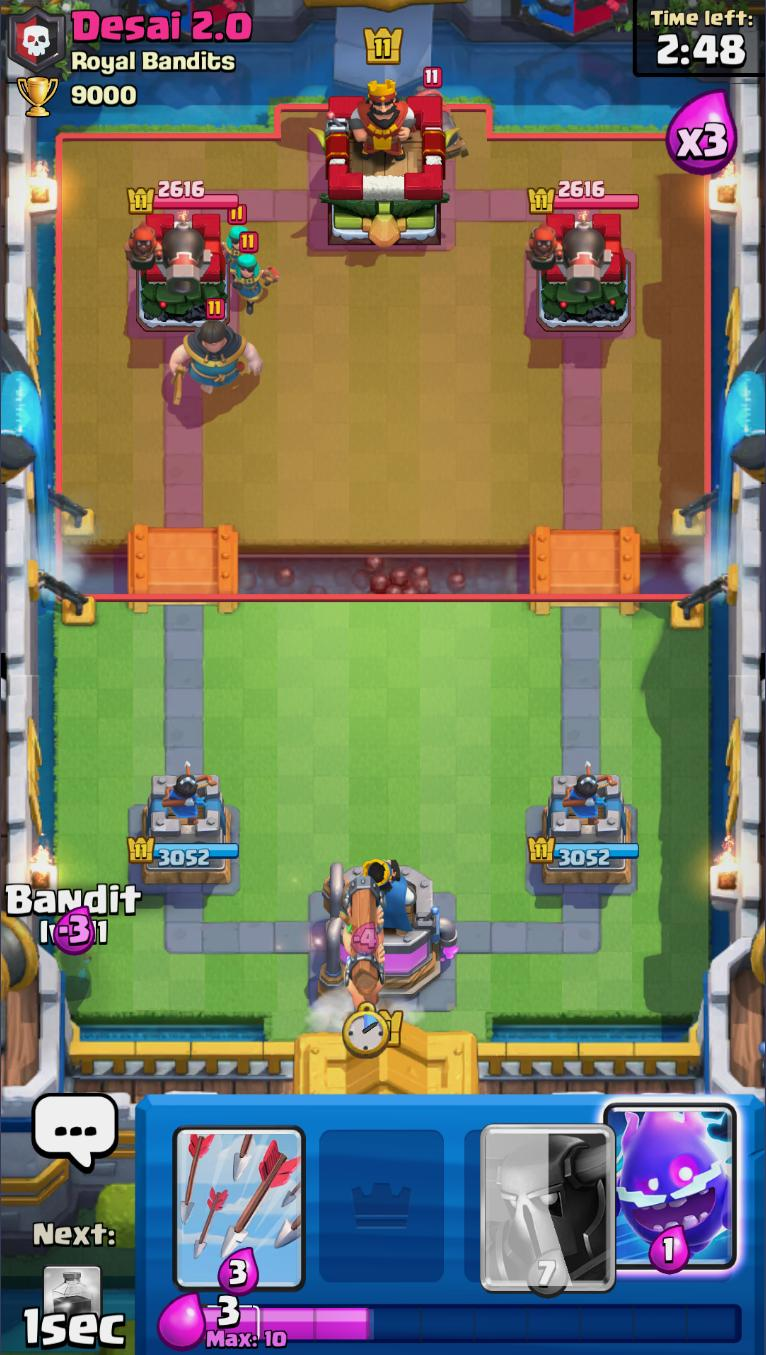ArrowDeck: (168, 1094, 311, 1295)
CannonCart: (412, 67, 469, 162)
Cannoneer: (526, 212, 607, 298), (124, 214, 207, 297)
ElectroSpiritDeck: (600, 1095, 740, 1295)
Elixir: (200, 1296, 745, 1350)
Empty: (310, 1094, 456, 1295)
EnemyTower: (524, 209, 633, 333), (125, 207, 231, 332)
KingTower: (310, 81, 461, 249)
MyBattleRam: (337, 877, 387, 1013)
MyKingTower: (314, 855, 460, 1007)
MyPrincessTower: (527, 770, 641, 886), (128, 773, 242, 888)
MyPrincessTowerHP: (127, 836, 240, 867), (527, 837, 640, 866)
PekkaDeck: (455, 1095, 600, 1295)
RageNext: (40, 1264, 105, 1341)
RascalM: (168, 300, 268, 407)
RascalW: (228, 231, 281, 314), (224, 204, 250, 285)
TowerPrincessHP: (127, 178, 240, 212), (529, 179, 641, 211)
